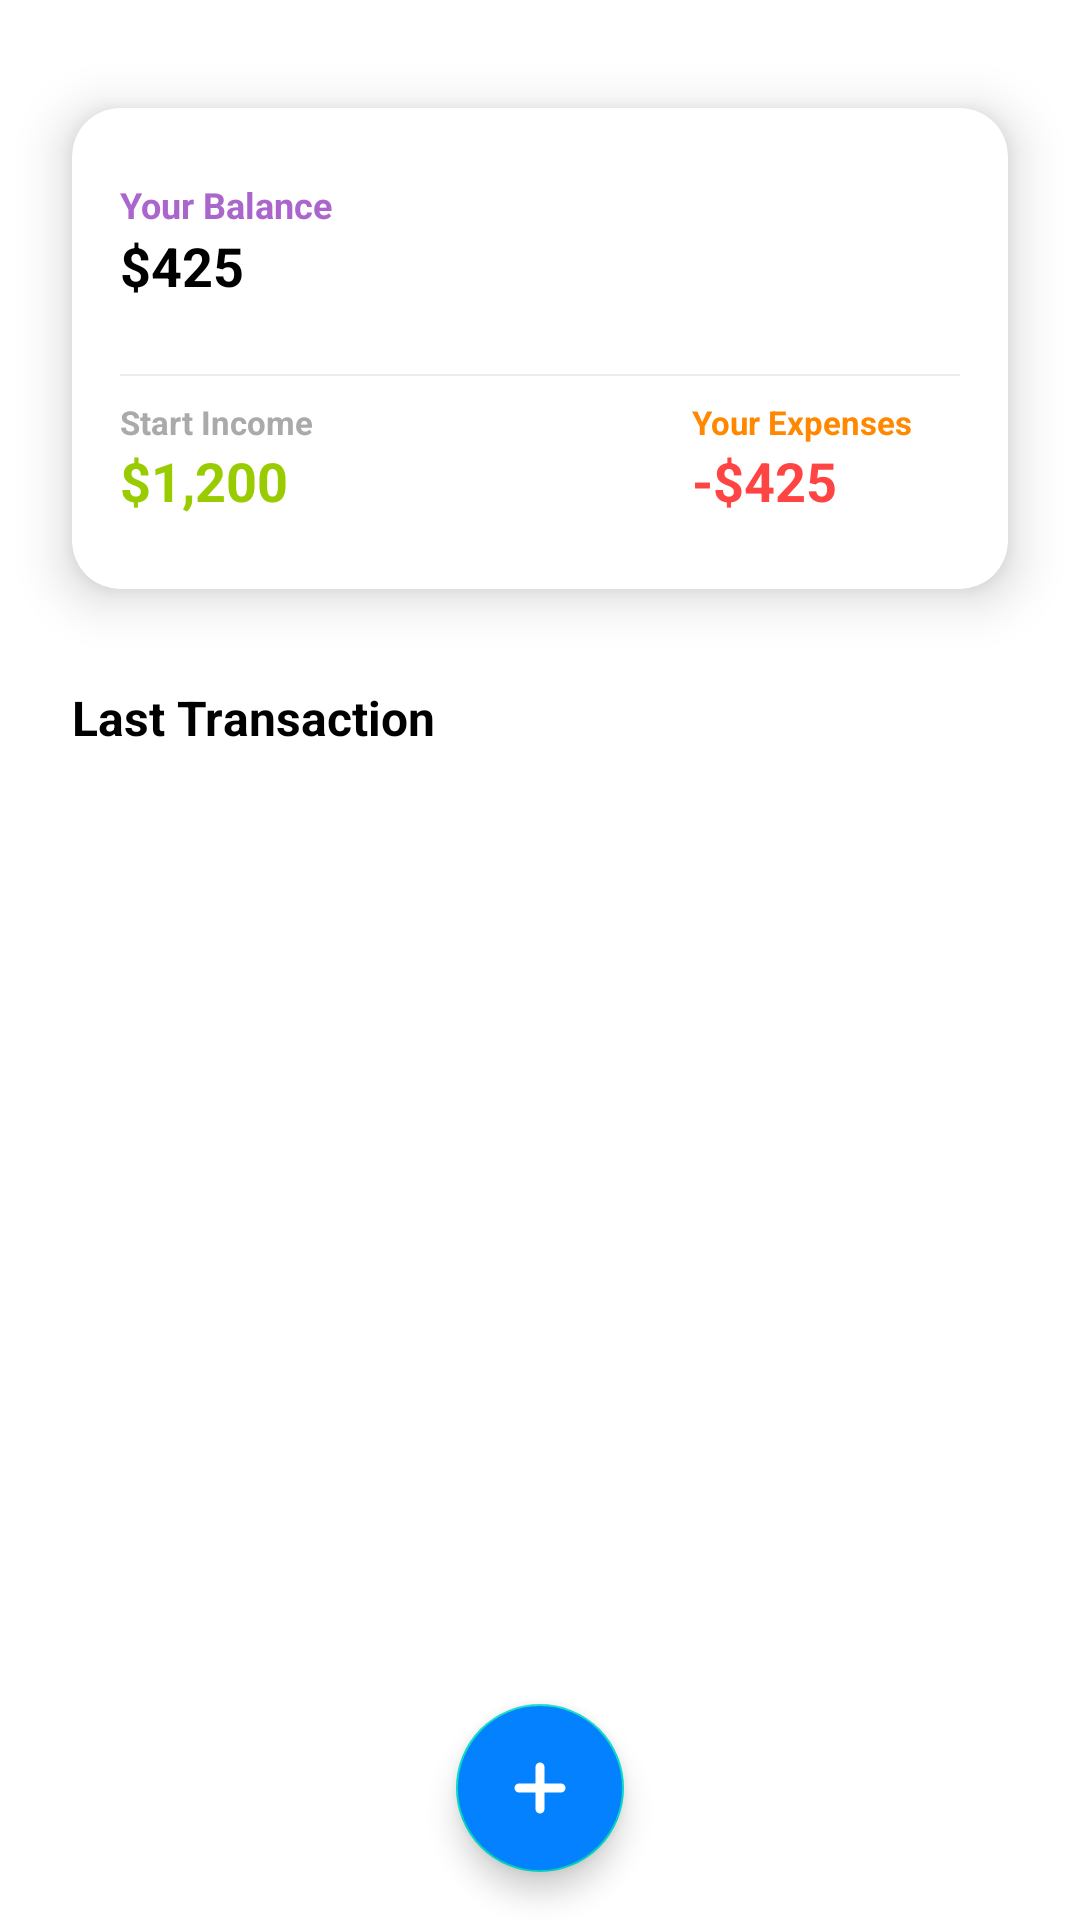

Screen size 1080*1920. Icon name, then its center in pixels as (x,y):
plus: (540,1788)
